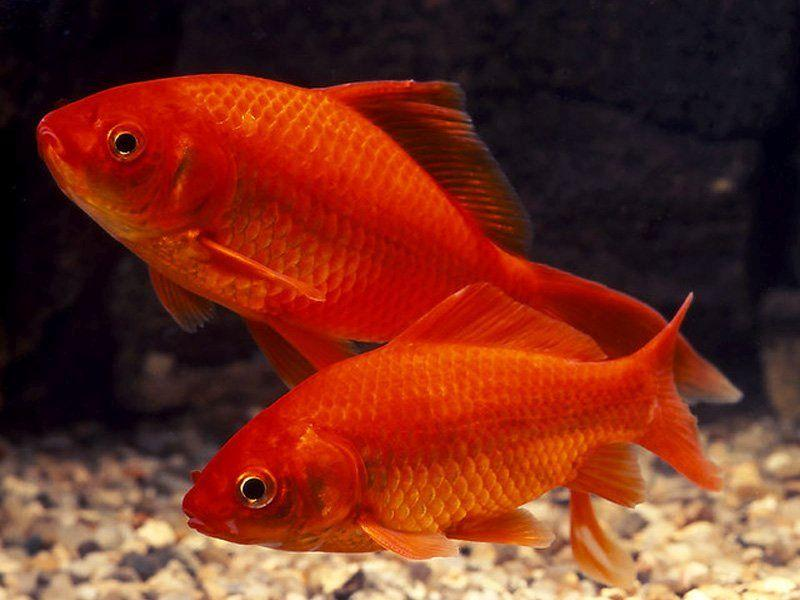Gold Fish: (34, 63, 740, 405), (182, 278, 734, 587)
